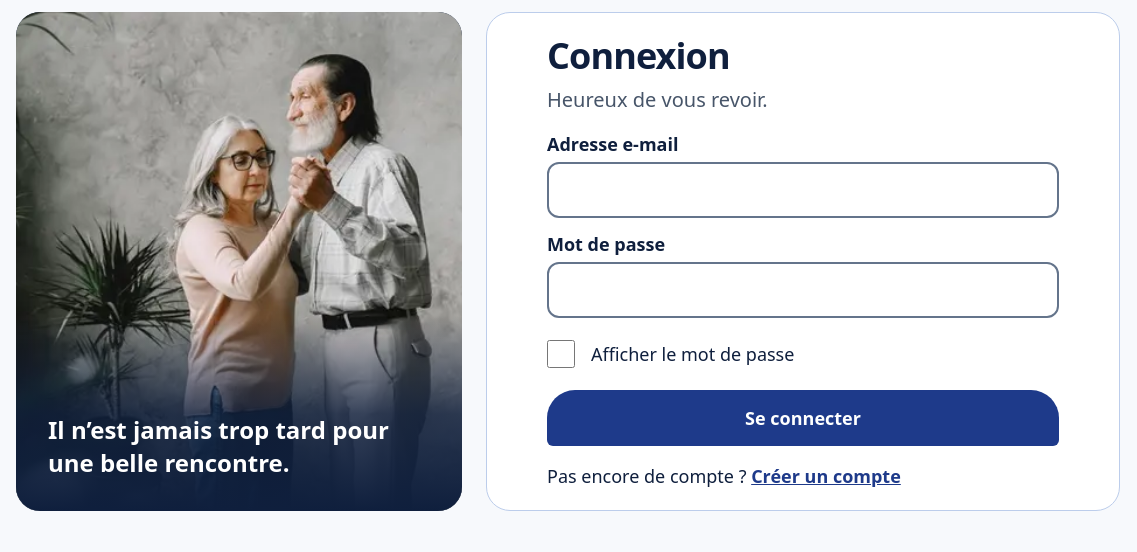
LoginView › refuse une adresse e-mail invalide
The width and height of the screenshot is (1137, 552).
Type "pas-un-email" into the field with id "email" at point(803, 190), box [547,162,1059,218]
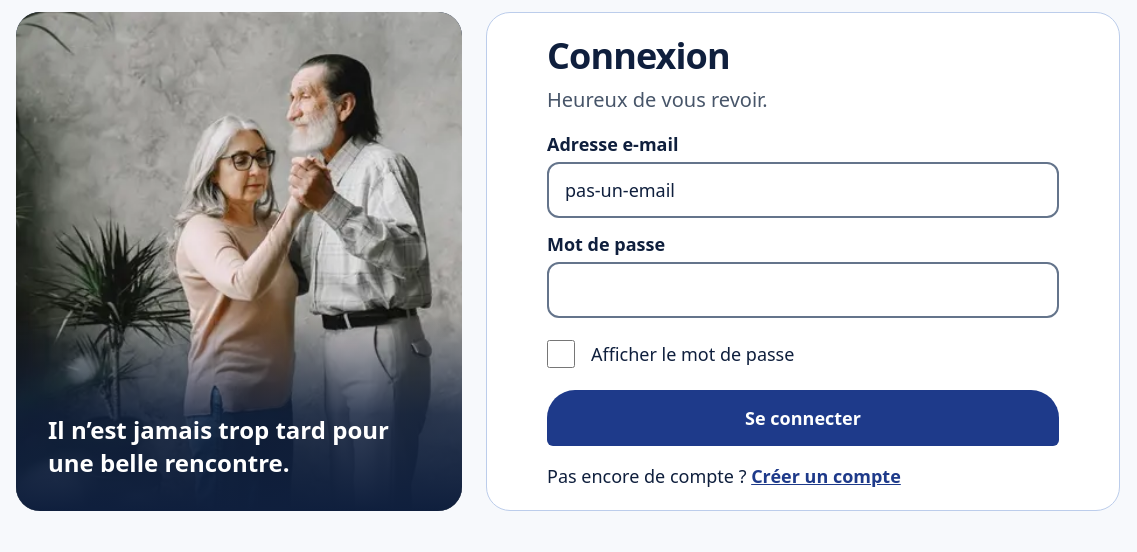
Type "secret" into the password field labelled "Mot de passe" at point(803, 290), box [547,262,1059,318]
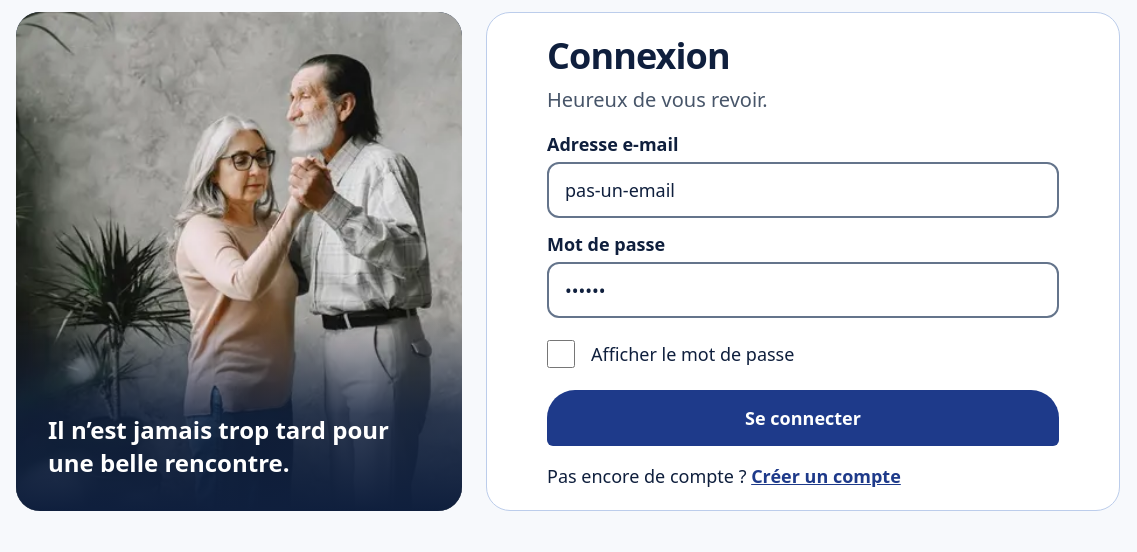
Submit the form, box [547,130,1059,446]
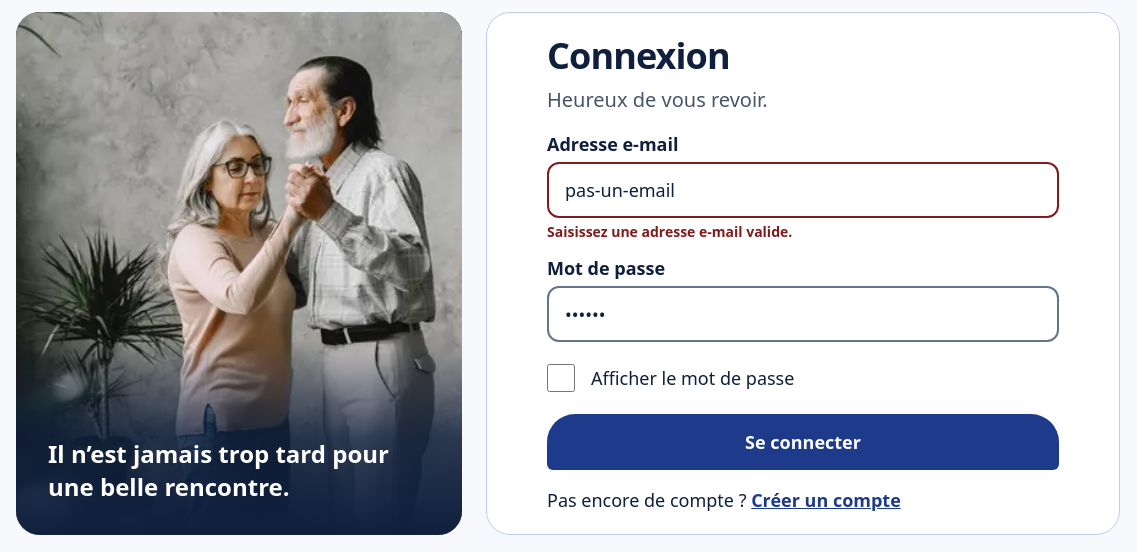
Result: the text "adresse e-mail valide" is shown at [547,222,792,241]
